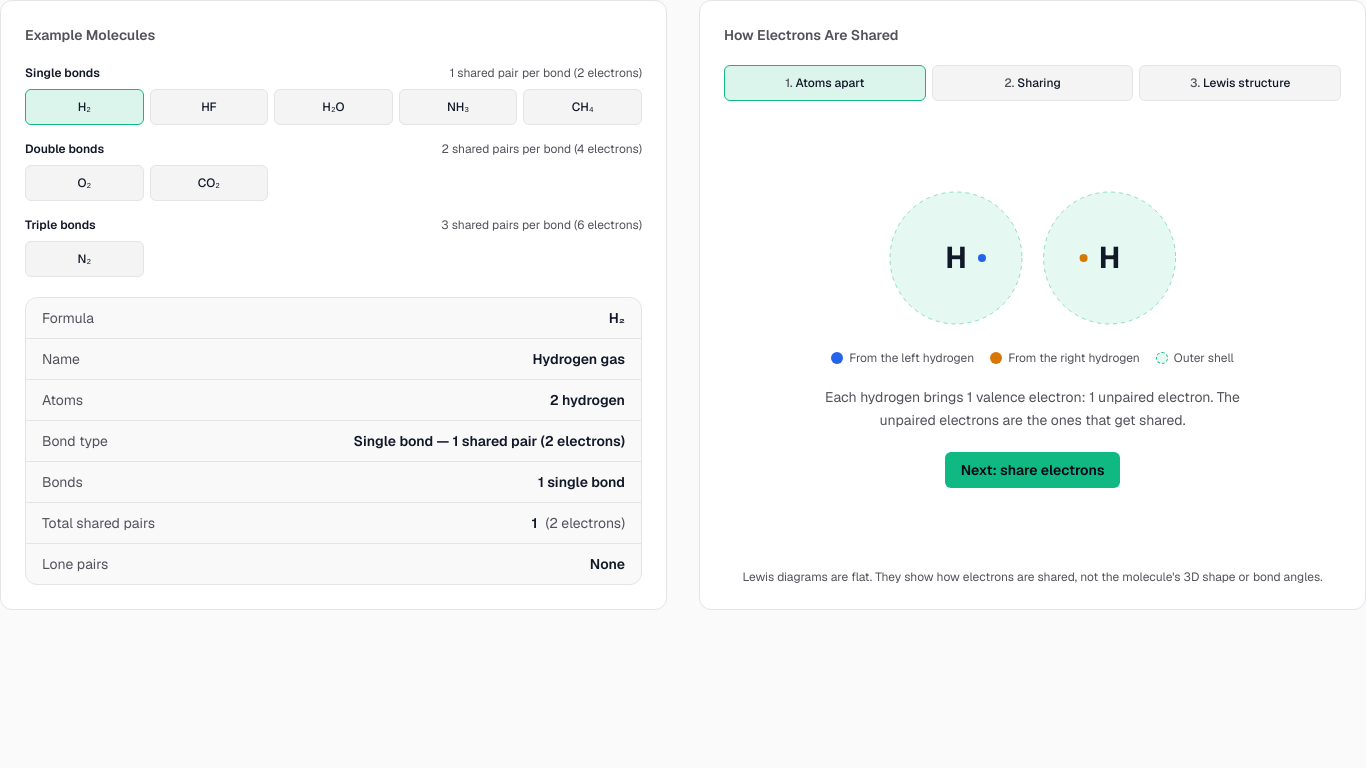
Test: CovalentBondExplorer › explains the diagram colors in text, not color alone
The image size is (1366, 768).
expect the text "From the left hydrogen" is shown: met, box [849,350,974,366]
expect the text "From the right hydrogen" is shown: met, box [1008,350,1140,366]
Click the button "3. Lewis structure" at (1240, 83), box [1139,65,1341,101]
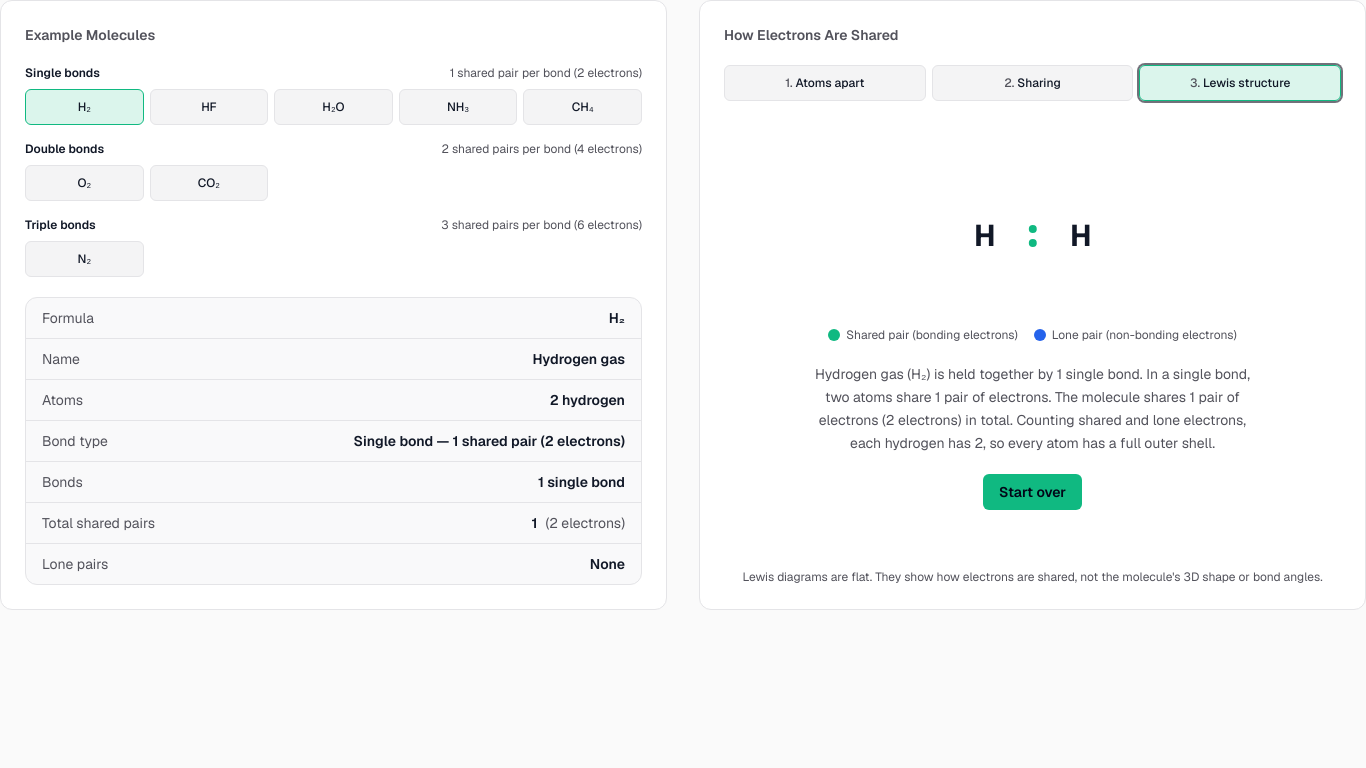
expect the text "Outer shell" is not shown: met
expect the text "Shared pair (bonding electrons)" is shown: met, box [846,328,1018,344]
expect the text "Lone pair (non-bonding electrons)" is shown: met, box [1052,328,1237,344]
